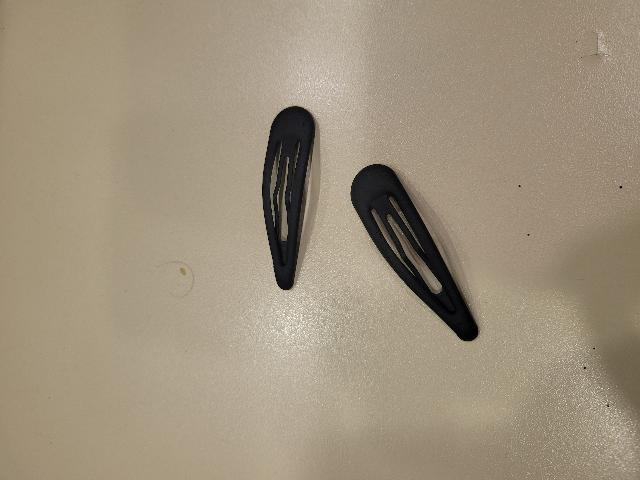Metal: (351, 164, 481, 343), (259, 102, 319, 289)
